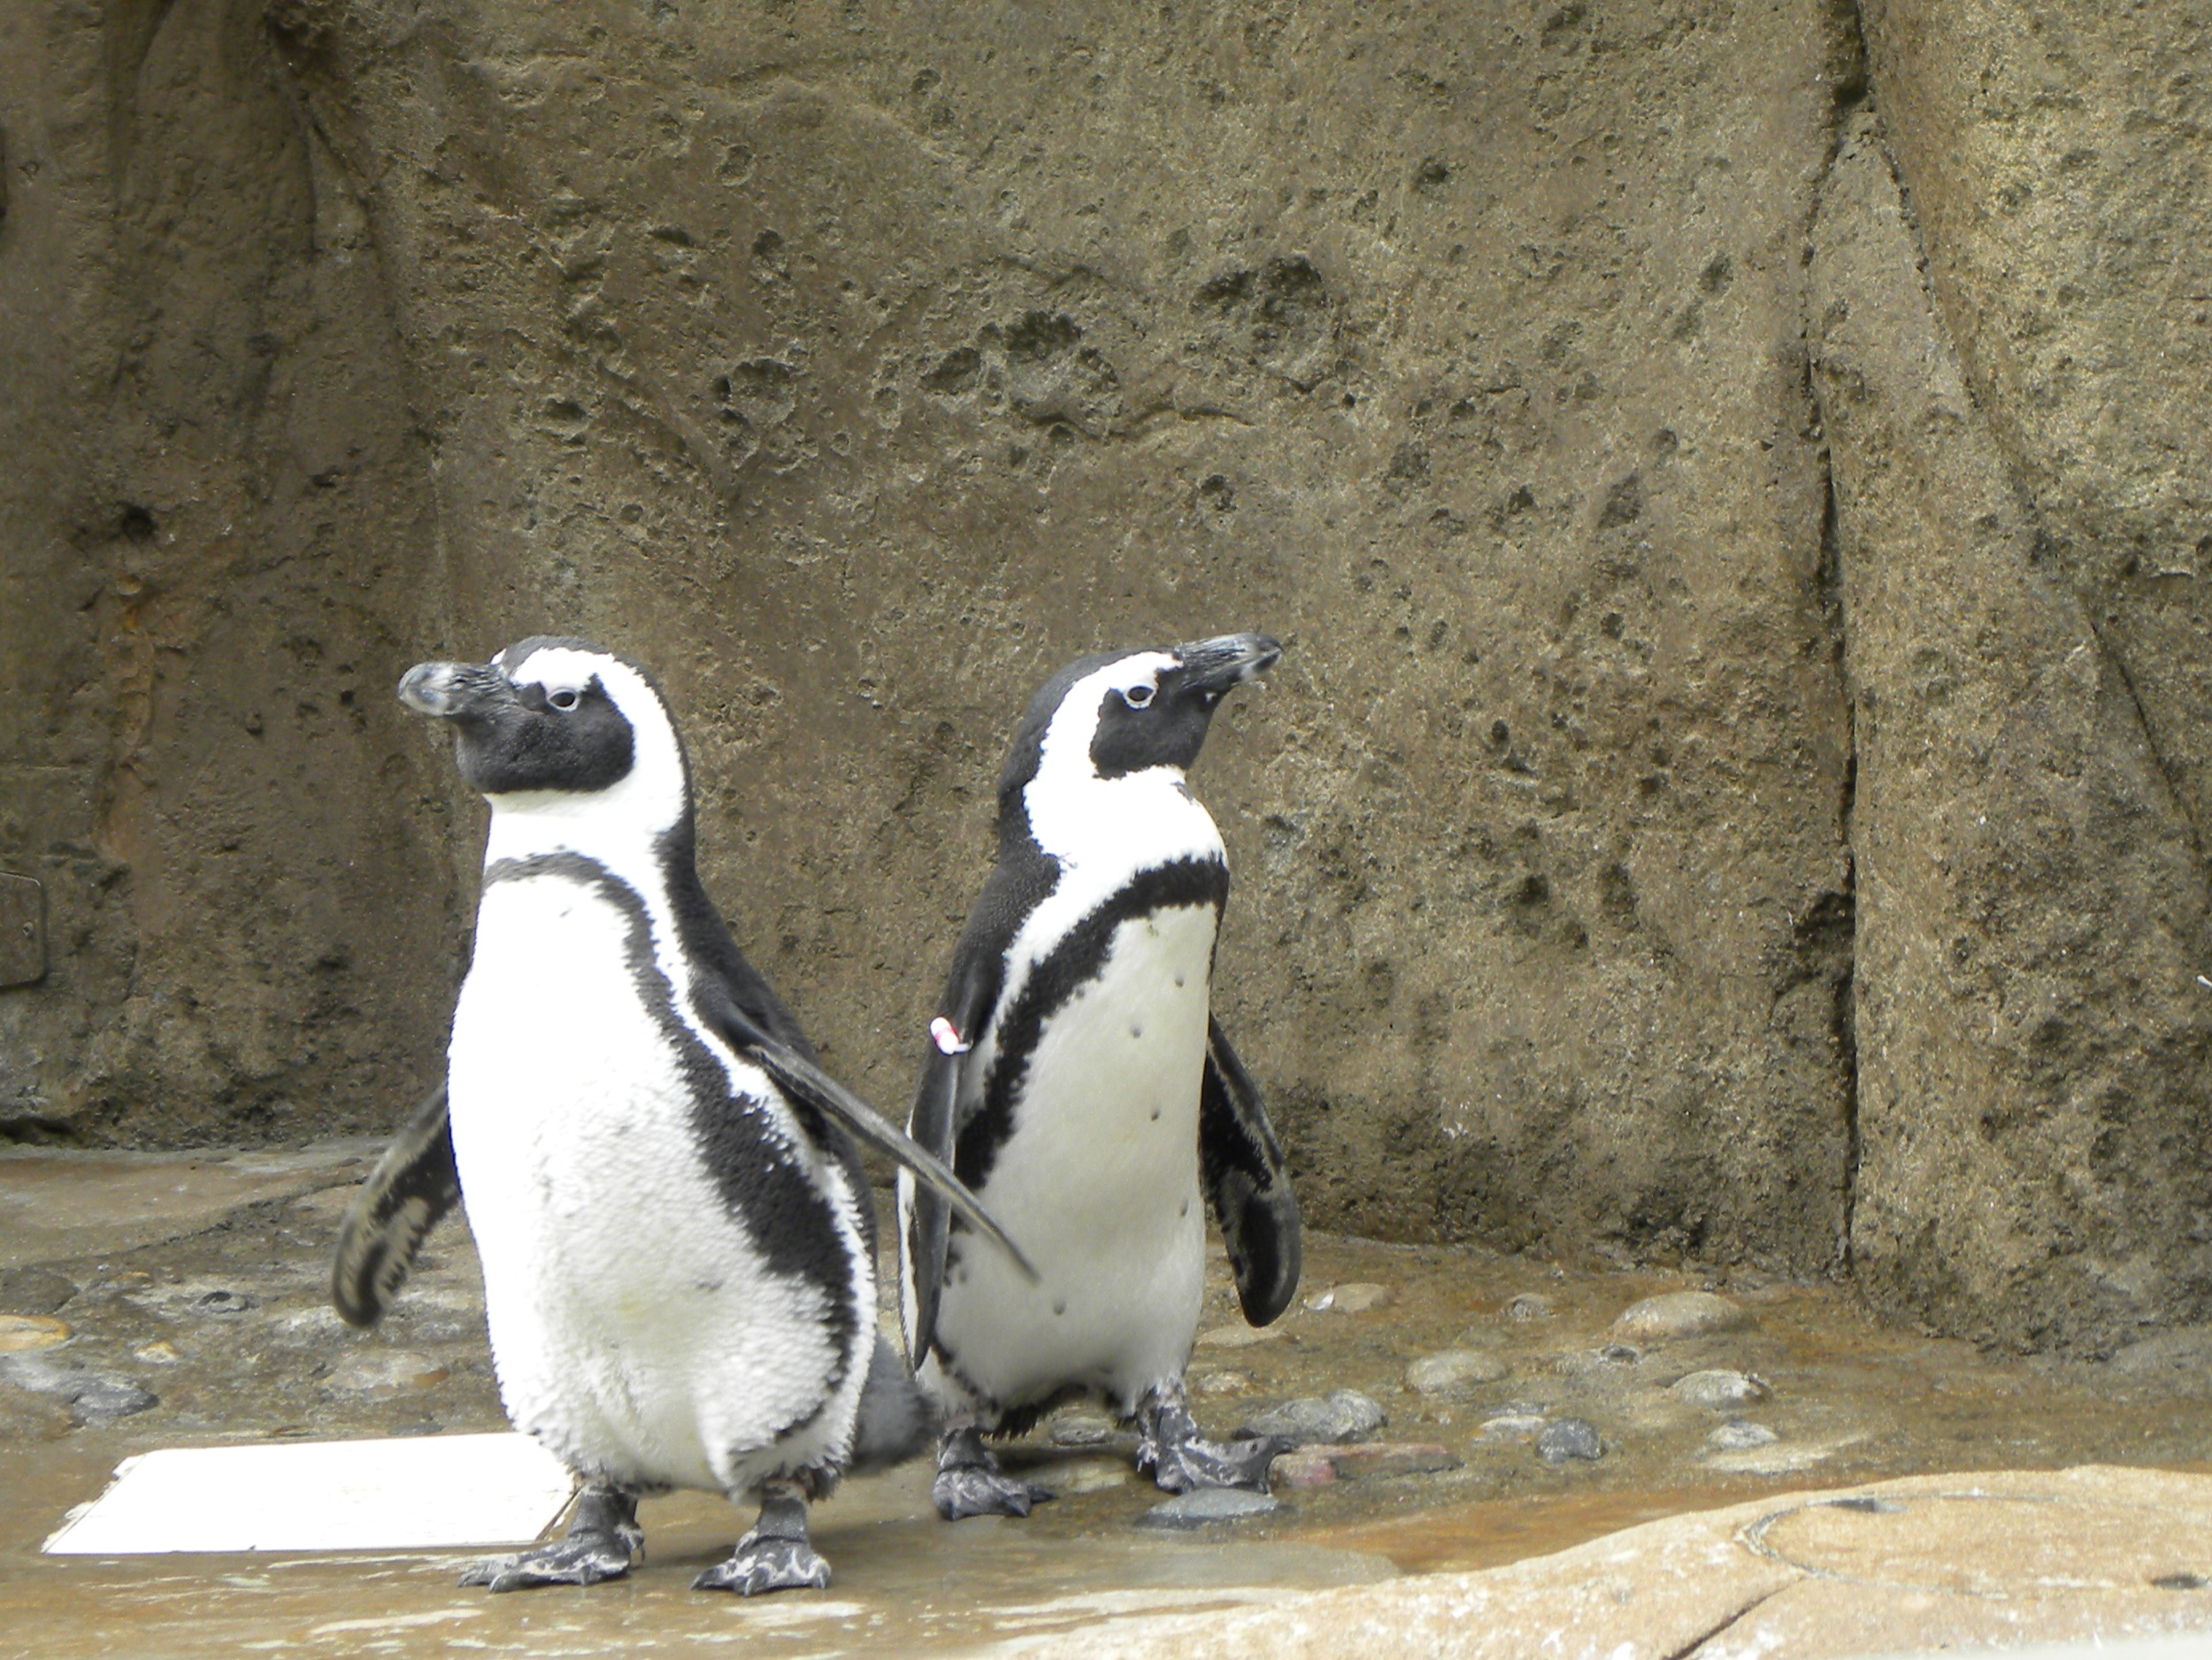penguin: (349, 636, 1056, 1595), (941, 624, 1353, 1562)
